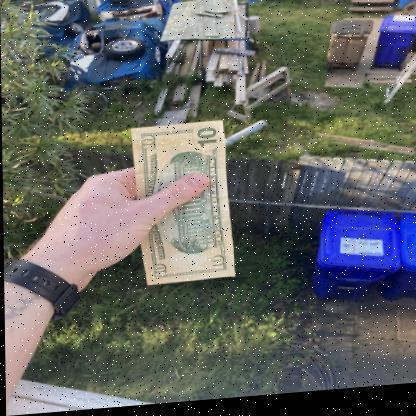ten-back: (130, 124, 234, 288)
